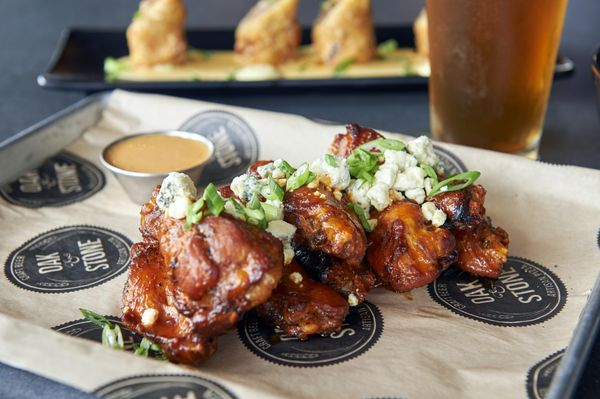pizza: (425, 1, 569, 160)
soup: (120, 169, 286, 363)
sushi: (100, 130, 214, 206), (177, 110, 260, 186)
